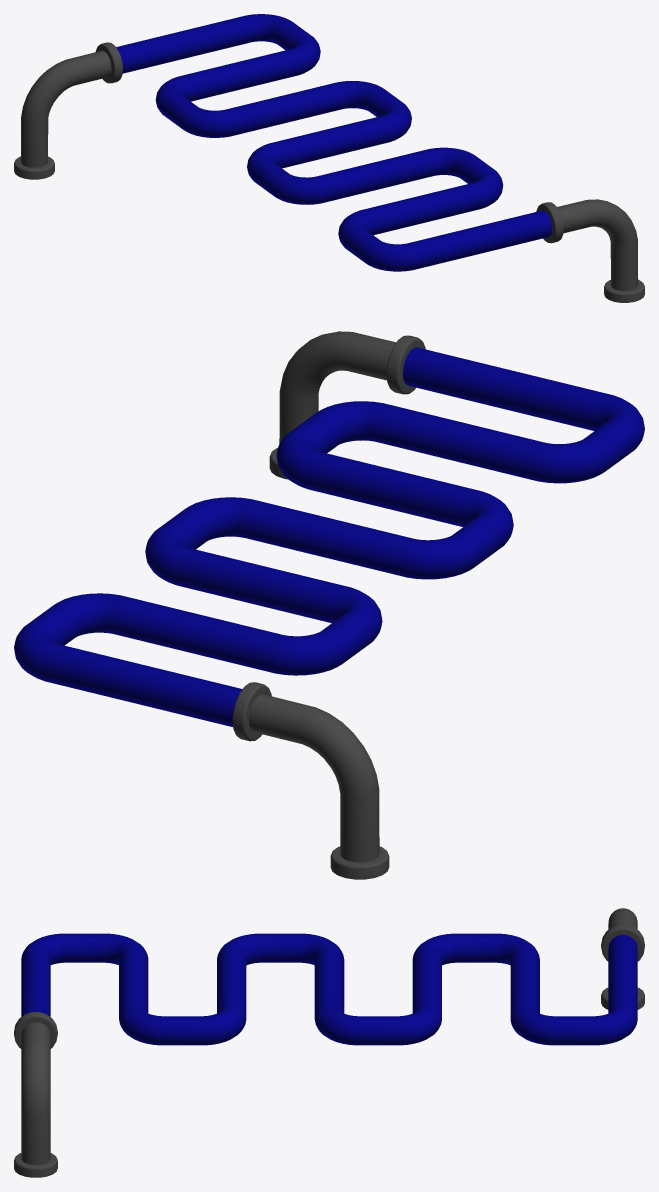
Rendered from SM_Light_lamps_lamp_8.fbx.
3 views of the same model, one above another, from view 1: azimuth 30°, elevation 25°; view 2: azimuth 150°, elevation 25°; view 3: azimuth 270°, elevation 25° (orthographic). The views are drawn at different scales.
Visible parts, largest first — view 1: SM_Light_lamps_lamp_8; view 2: SM_Light_lamps_lamp_8; view 3: SM_Light_lamps_lamp_8.
Boxes of the visible parts, <box> form: SM_Light_lamps_lamp_8: <box>14,14,644,302</box>; SM_Light_lamps_lamp_8: <box>14,331,644,879</box>; SM_Light_lamps_lamp_8: <box>14,908,644,1177</box>.
Bounding box in the file's own units: 44.41 × 13.08 × 64.48.
